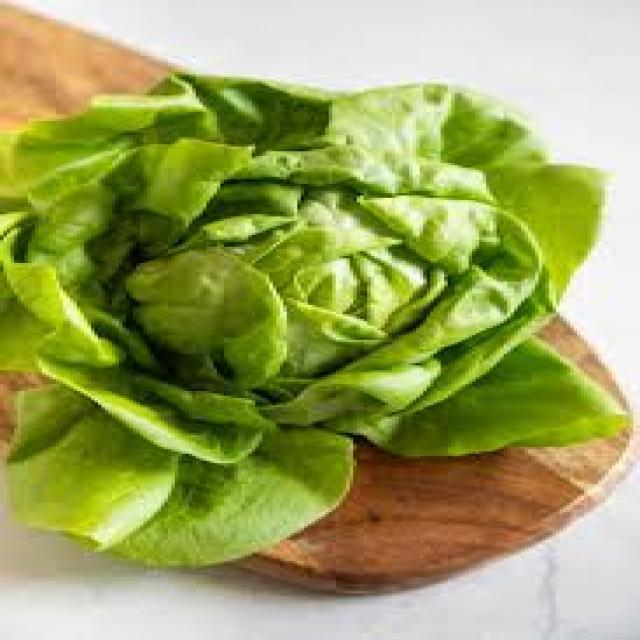Lettuce: (0, 68, 630, 566)
